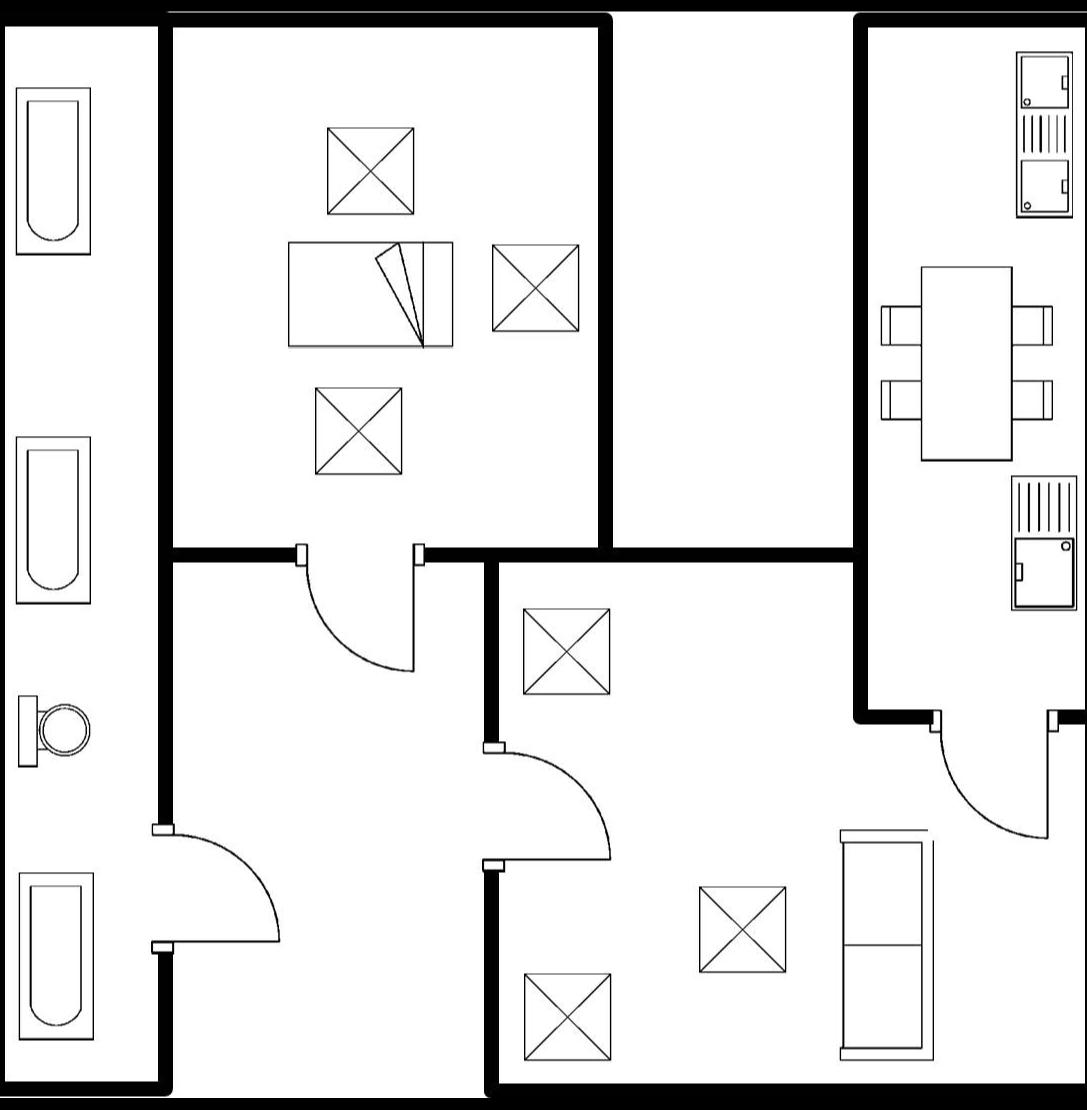sink: (1003, 46, 1080, 230)
